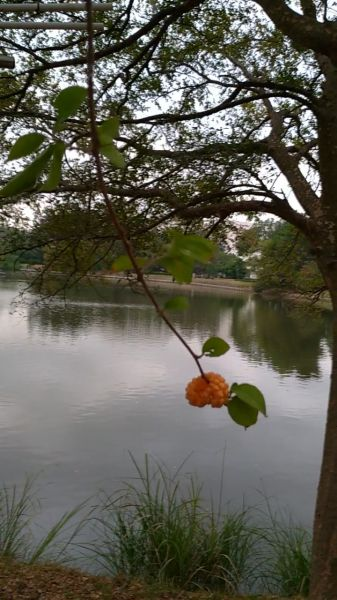eggs: (183, 372, 233, 414)
